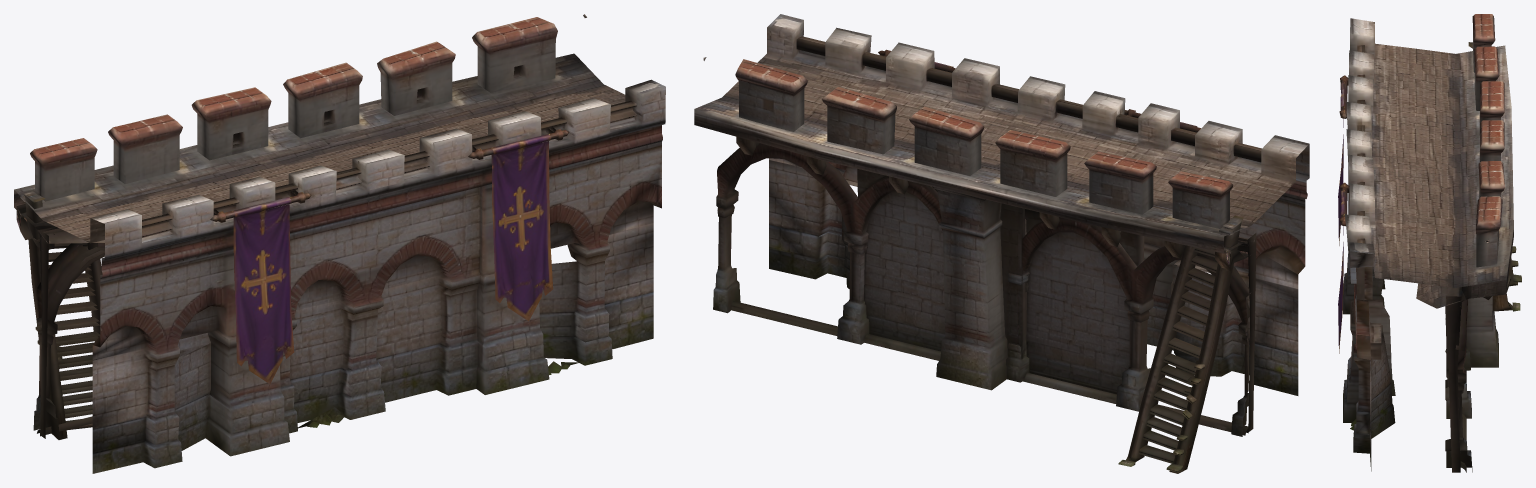
File: WallMiddle.fbx
3 renders of one model, left to right at view 1: azimuth 30°, elevation 25°; view 2: azimuth 150°, elevation 25°; view 3: azimuth 270°, elevation 25°, orthographic. The views are drawn at different scales.
Parts seen in each view (by area): view 1: Continuous wall middle; view 2: Continuous wall middle; view 3: Continuous wall middle.
Boxes of the visible parts, x1,y1,x2,y2 form: Continuous wall middle: (14, 14, 665, 473); Continuous wall middle: (694, 14, 1309, 473); Continuous wall middle: (1338, 14, 1521, 472).
Size of the model in its own units: 68 by 36.08 by 22.61.
